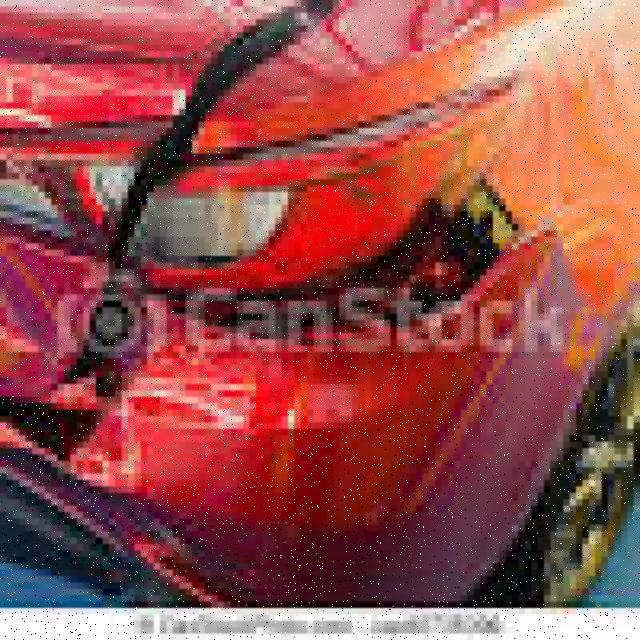rear-bumper-dent: (0, 205, 634, 589)
